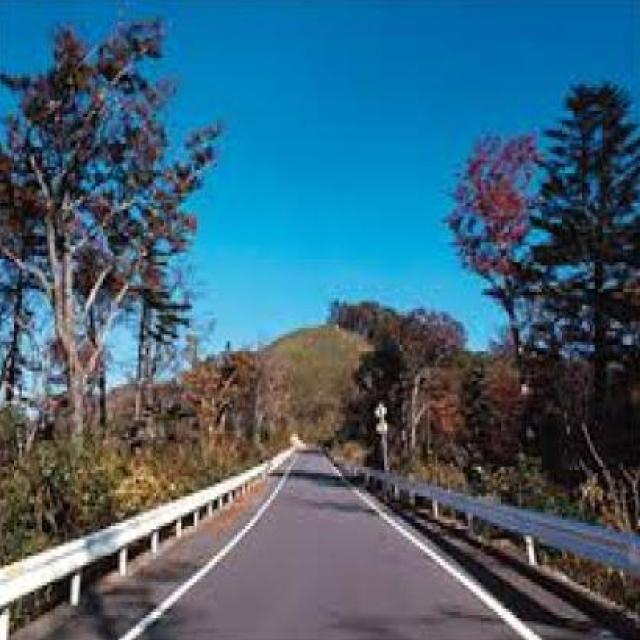Guard rail: (0, 446, 283, 640), (332, 451, 640, 625)
